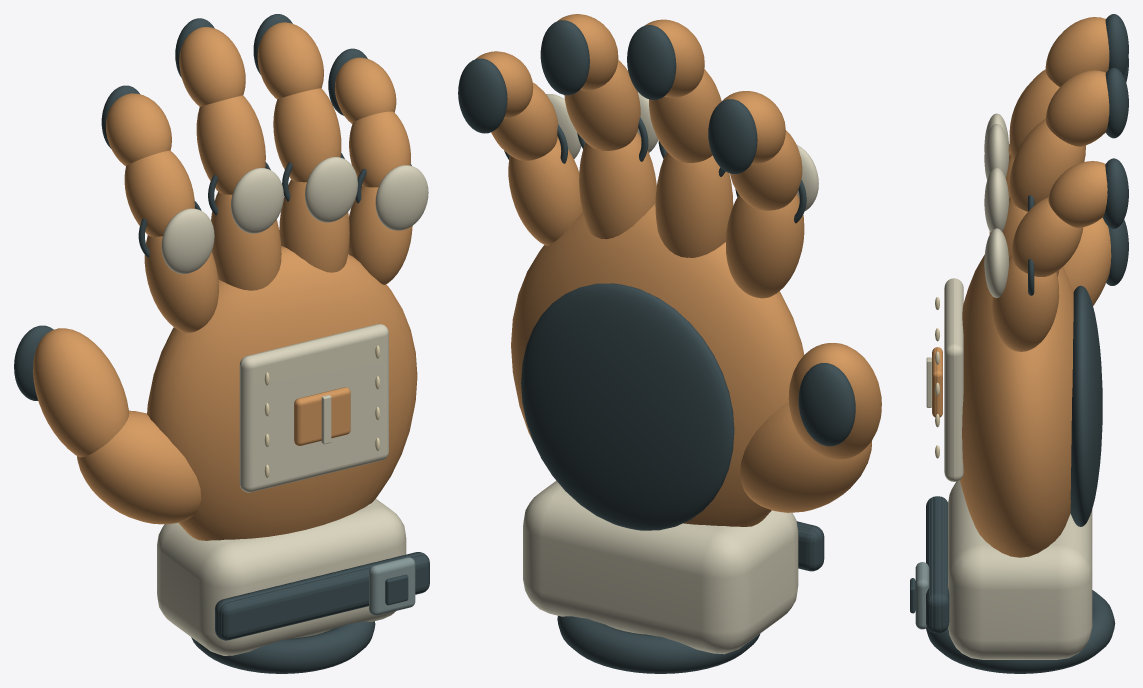
File: glove_left.glb
3 views of the same model, side by side, from view 1: azimuth 30°, elevation 25°; view 2: azimuth 150°, elevation 25°; view 3: azimuth 270°, elevation 25° (orthographic). The views are drawn at different scales.
Parts seen in each view (by area): view 1: Apricot glove, Warm cotton, Charcoal rubber, Brushed buckle; view 2: Apricot glove, Charcoal rubber, Warm cotton; view 3: Apricot glove, Warm cotton, Charcoal rubber, Brushed buckle, Cotton stitching.
Part boxes in pixels (box(x1,y1,x2,y2)): Apricot glove: box(33, 22, 417, 540); Warm cotton: box(157, 157, 428, 655); Charcoal rubber: box(14, 14, 429, 673); Brushed buckle: box(369, 557, 415, 615); Apricot glove: box(475, 14, 881, 526); Charcoal rubber: box(458, 20, 855, 673); Warm cotton: box(523, 92, 818, 654); Apricot glove: box(932, 17, 1111, 557); Warm cotton: box(926, 113, 1092, 659); Charcoal rubber: box(910, 14, 1128, 673); Brushed buckle: box(915, 562, 929, 629); Cotton stitching: box(935, 297, 939, 458).
Size of the model in its own units: 0.3075 by 0.485 by 0.159.
